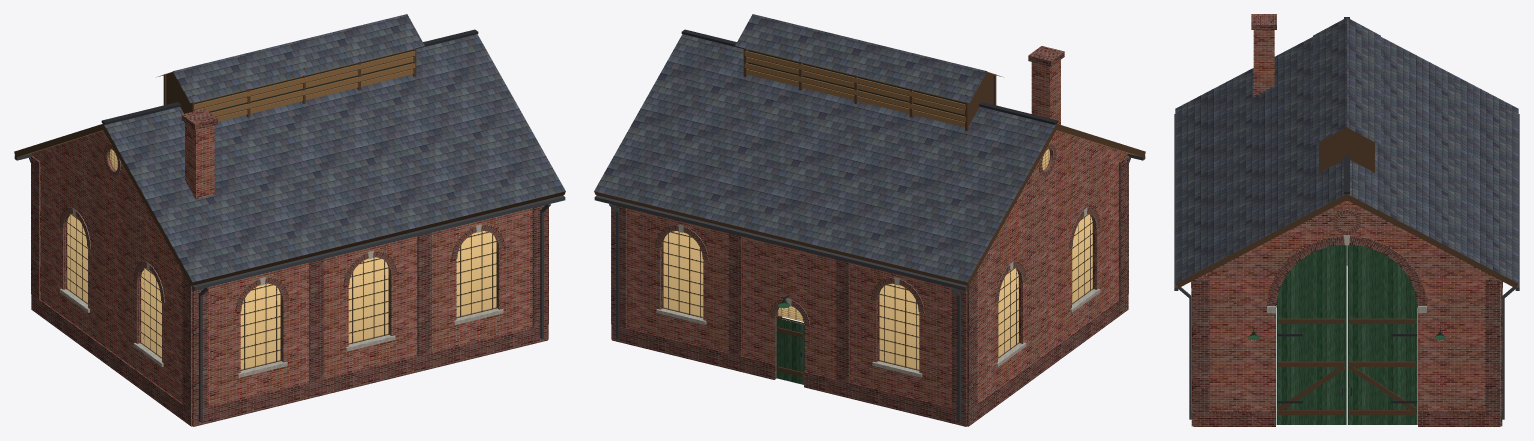
The model's file is depo_vlak.glb.
The picture shows the model from 3 angles, left to right: view 1: azimuth 30°, elevation 25°; view 2: azimuth 150°, elevation 25°; view 3: azimuth 270°, elevation 25°; orthographic projection. The views are drawn at different scales.
Visible parts, largest first — view 1: dum, noc; view 2: dum, noc, dvere_02; view 3: dum, dvere_00, dvere_01.
Boxes of the visible parts, x1=… form: dum: x1=14, y1=14, x2=565, y2=426; noc: x1=66, y1=149, x2=497, y2=370; dum: x1=594, y1=14, x2=1145, y2=426; noc: x1=662, y1=149, x2=1093, y2=370; dvere_02: x1=776, y1=318, x2=804, y2=384; dum: x1=1174, y1=14, x2=1519, y2=426; dvere_00: x1=1276, y1=244, x2=1346, y2=424; dvere_01: x1=1347, y1=244, x2=1417, y2=424.
Size of the model in its own units: 14.23 by 10.1 by 11.68.
Materials: 4 (3 with a texture image).
